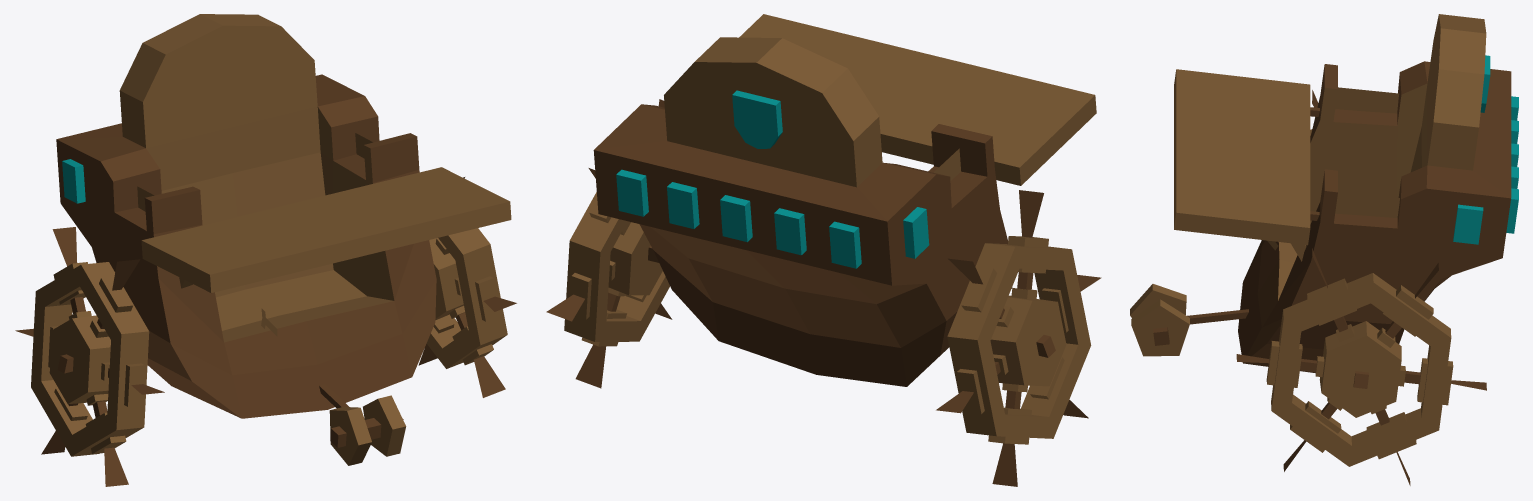
Rendered from rolstoelSchildpadStilstaandXpV2.fbx.
The picture shows the model from 3 angles, left to right: view 1: azimuth 30°, elevation 25°; view 2: azimuth 150°, elevation 25°; view 3: azimuth 270°, elevation 25°; orthographic projection. The views are drawn at different scales.
Parts seen in each view (by area): view 1: rolstoelVast; view 2: rolstoelVast; view 3: rolstoelVast.
Boxes of the visible parts, x1=… form: rolstoelVast: x1=15, y1=14, x2=516, y2=486; rolstoelVast: x1=546, y1=14, x2=1101, y2=486; rolstoelVast: x1=1130, y1=14, x2=1518, y2=485.
Size of the model in its own units: 4.42 by 3.84 by 3.7.
